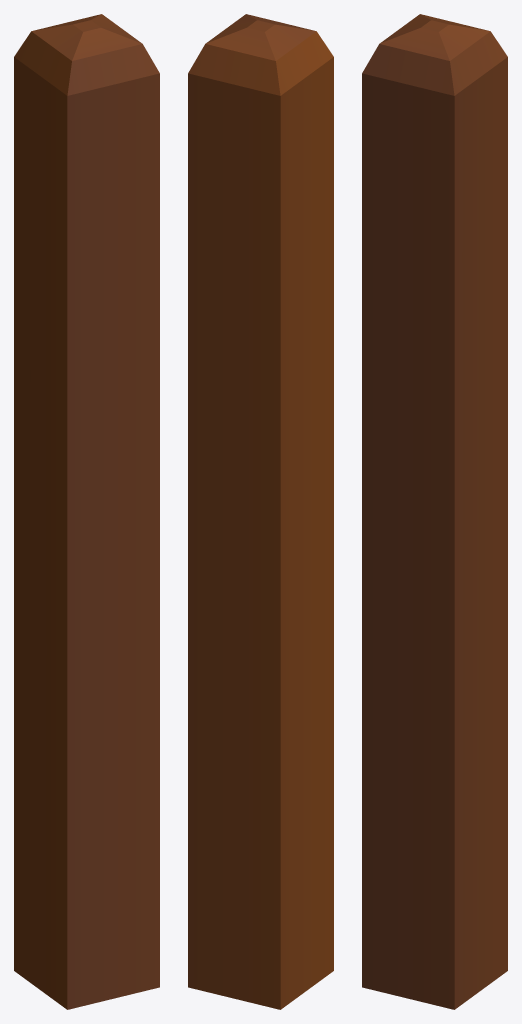
Rendered from B01_Corner_Fence.fbx.
3 views of the same model, side by side, from view 1: azimuth 30°, elevation 25°; view 2: azimuth 150°, elevation 25°; view 3: azimuth 330°, elevation 25° (orthographic).
Parts seen in each view (by area): view 1: B01_Corner_Fence; view 2: B01_Corner_Fence; view 3: B01_Corner_Fence.
Part boxes in pixels (<box>): B01_Corner_Fence: <box>14,14,159,1009</box>; B01_Corner_Fence: <box>188,14,333,1009</box>; B01_Corner_Fence: <box>362,14,507,1009</box>.
Bounding box in the file's own units: 13.18 × 130 × 13.18.
